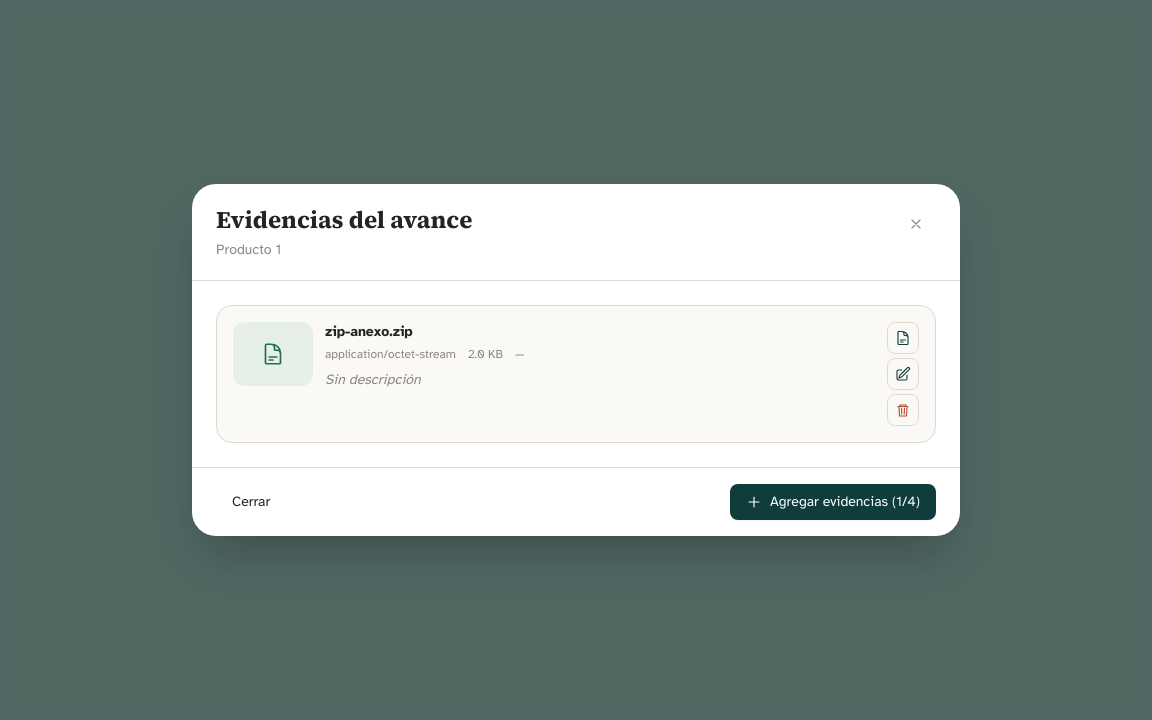
descripción de evidencias › guarda la descripción editada
Click the button titled "Editar descripción". click: (903, 374)
box: [887, 358, 919, 390]
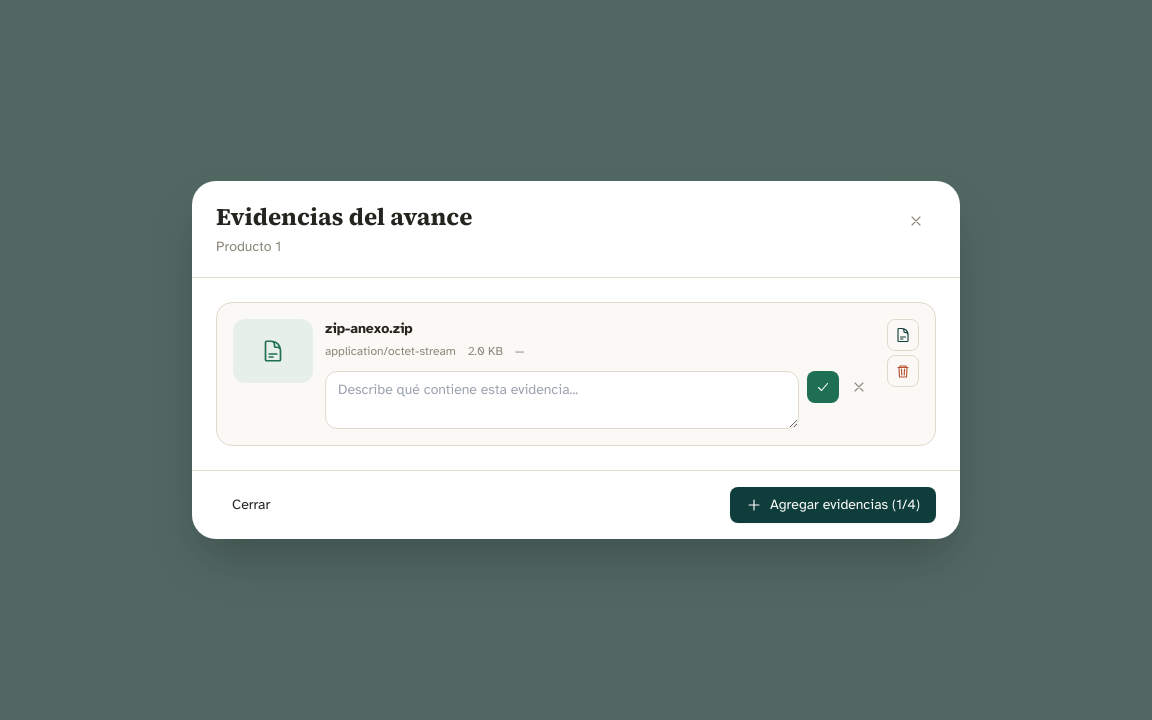
Now the text box is empty
Type "acta del comite" into the text box. click: (562, 400)
box: [325, 371, 799, 429]
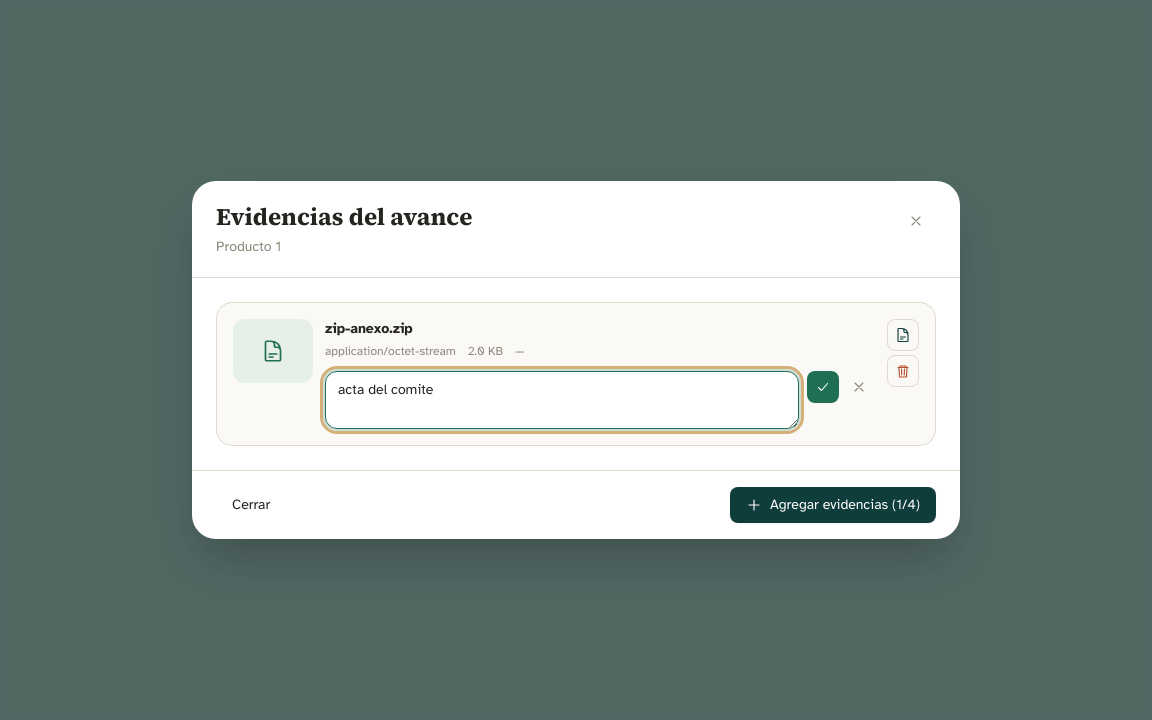
Click the button titled "Guardar". click: (823, 387)
box: [807, 371, 839, 403]
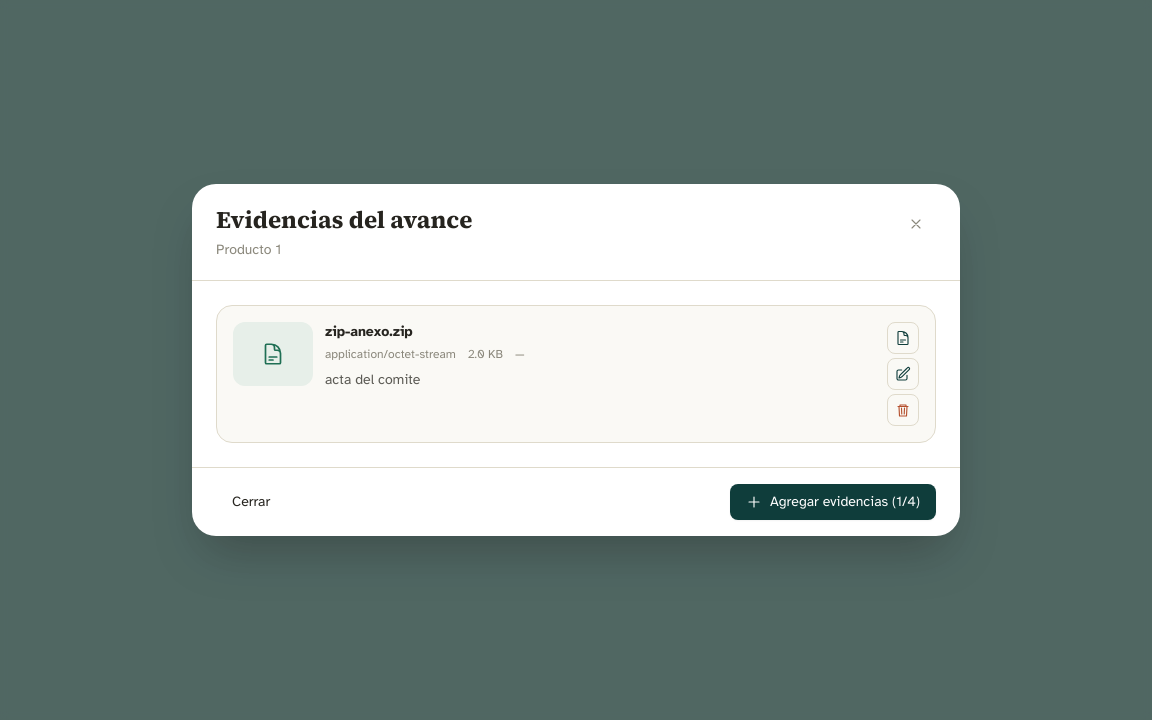
Now the text "acta del comite" is shown, box [325, 371, 420, 388]
